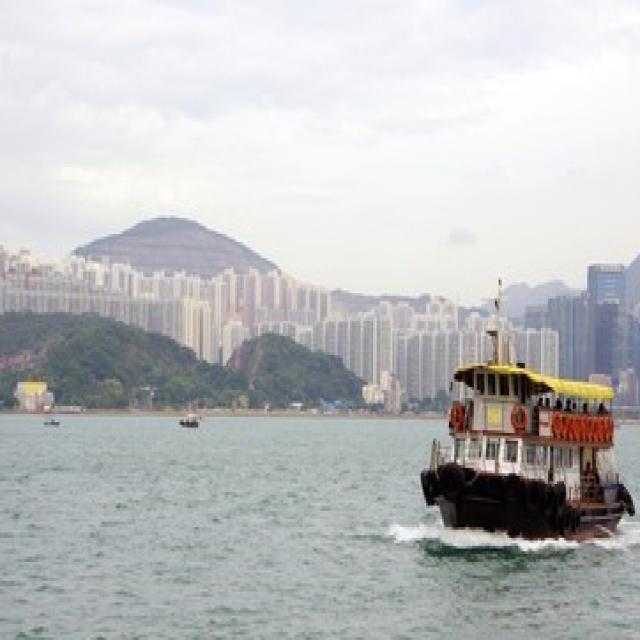passenger ship: (407, 294, 631, 567)
